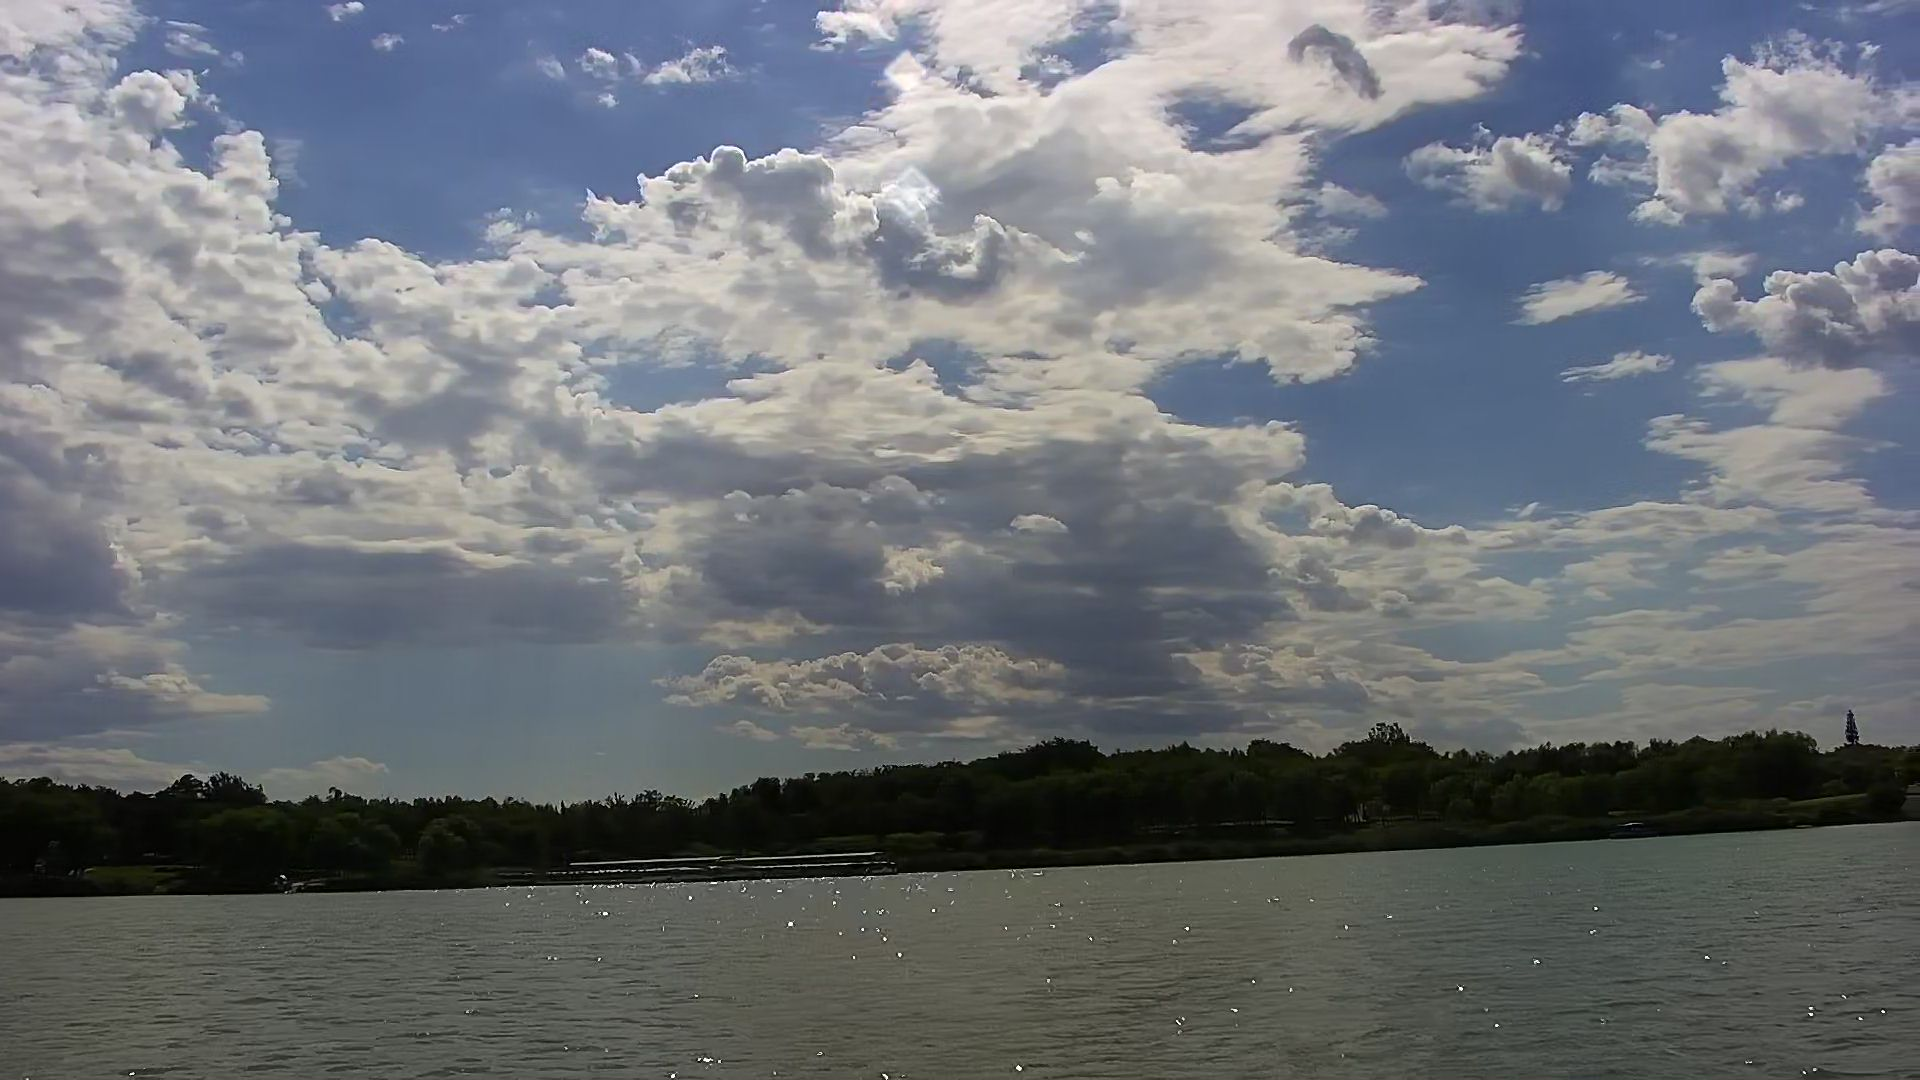harbor: (555, 849, 899, 886)
